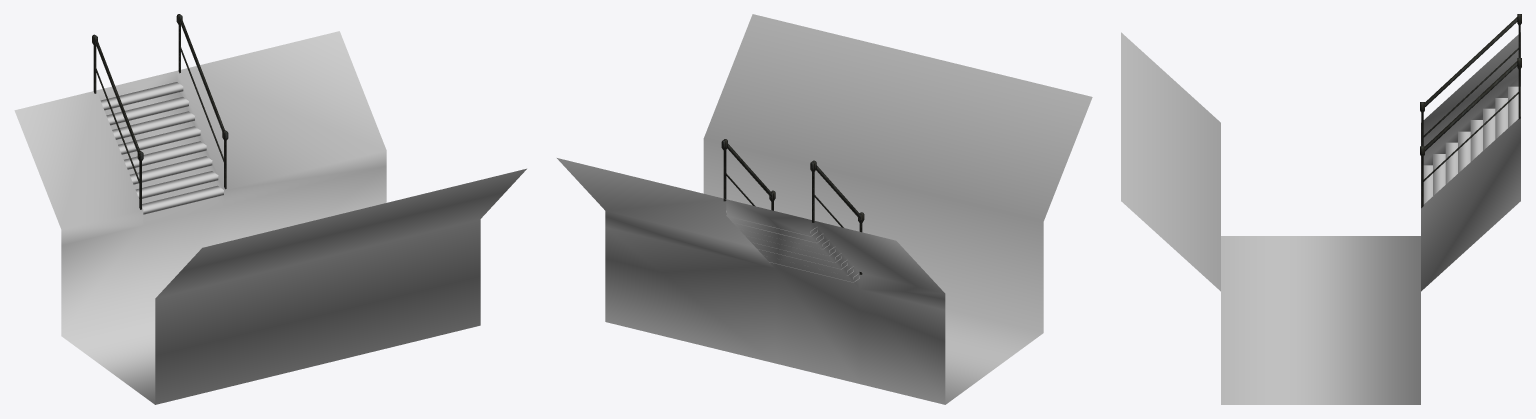
Rendered from engineroom_floor_03_conveyor_stairs.DAE.
The picture shows the model from 3 angles, left to right: view 1: azimuth 30°, elevation 25°; view 2: azimuth 150°, elevation 25°; view 3: azimuth 270°, elevation 25°; orthographic projection. The views are drawn at different scales.
Visible parts, largest first — view 1: engine_floor_009, balcony_straight_rail001; view 2: engine_floor_009, balcony_straight_rail001; view 3: engine_floor_009, balcony_straight_rail001.
Part boxes in pixels (x1,y1,x2,y2): engine_floor_009: (14,31,526,404); balcony_straight_rail001: (92,14,228,209); engine_floor_009: (557,14,1092,404); balcony_straight_rail001: (721,139,864,274); engine_floor_009: (1121,32,1520,404); balcony_straight_rail001: (1420,14,1521,207).
Bounding box in the file's own units: 4 × 2.91 × 4.01.
